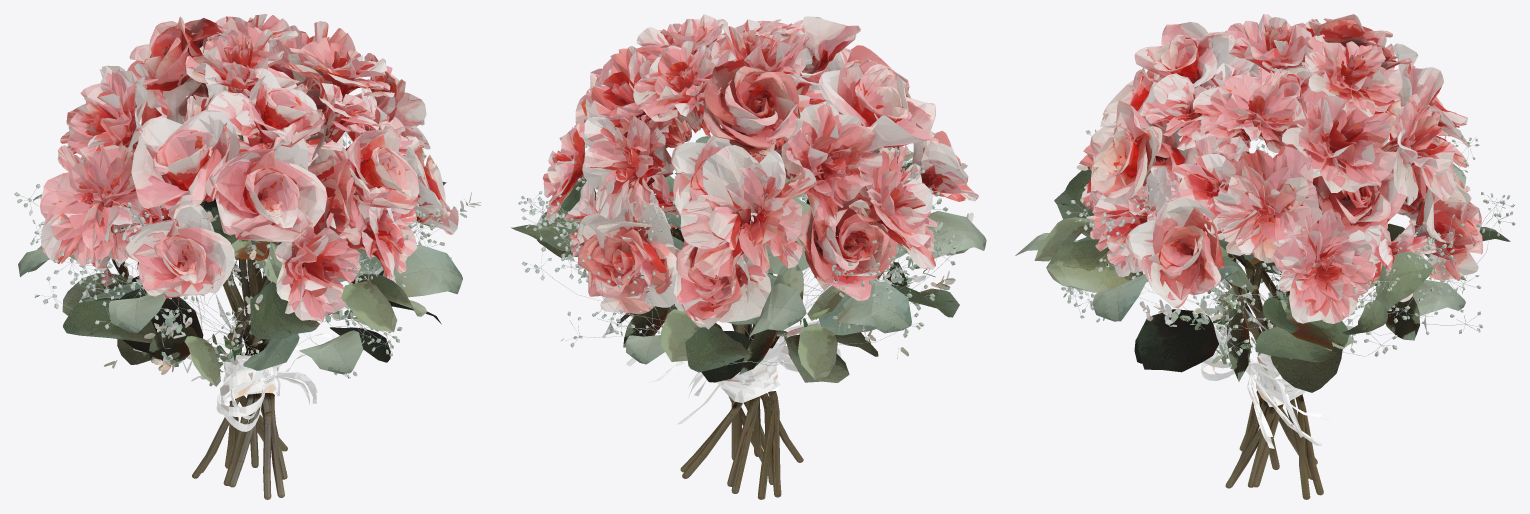
File: qixi-bouquet.glb
The picture shows the model from 3 angles, left to right: view 1: azimuth 30°, elevation 25°; view 2: azimuth 150°, elevation 25°; view 3: azimuth 270°, elevation 25°; orthographic projection.
Visible parts, largest first — view 1: Leaves_003, Leaves_002, Petal_010, Petal_005, Petal_012, Petal_004, Stems, Petal_022, Petal_019, Petal_002, Petal_008, Petal_025 (+26 smaller); view 2: Leaves_002, Petal_001, Petal_016, Petal_002, Petal_019, Petal_012, Petal_014, Petal_009, Stems, Petal_010, Petal_003, Petal_007 (+24 smaller); view 3: Leaves_003, Petal_017, Petal_018, Petal_015, Petal_021, Leaves_001, Petal_020, Stems, Petal_007, Petal_008, Petal_014, Petal_016 (+28 smaller).
Boxes of the visible parts, x1=… form: Leaves_003: x1=137, y1=198, x2=462, y2=373; Leaves_002: x1=18, y1=194, x2=299, y2=386; Petal_010: x1=40, y1=142, x2=139, y2=267; Petal_005: x1=209, y1=131, x2=327, y2=242; Petal_012: x1=131, y1=110, x2=240, y2=209; Petal_004: x1=125, y1=204, x2=234, y2=298; Stems: x1=192, y1=135, x2=287, y2=499; Petal_022: x1=274, y1=210, x2=360, y2=321; Petal_019: x1=127, y1=16, x2=222, y2=124; Petal_002: x1=67, y1=70, x2=147, y2=161; Petal_008: x1=347, y1=121, x2=419, y2=214; Petal_025: x1=248, y1=68, x2=324, y2=148; Leaves_002: x1=623, y1=197, x2=986, y2=382; Petal_001: x1=680, y1=145, x2=816, y2=278; Petal_016: x1=577, y1=201, x2=677, y2=314; Petal_002: x1=781, y1=102, x2=882, y2=225; Petal_019: x1=703, y1=60, x2=801, y2=155; Petal_012: x1=818, y1=58, x2=939, y2=151; Petal_014: x1=582, y1=115, x2=666, y2=220; Petal_009: x1=798, y1=195, x2=898, y2=302; Stems: x1=670, y1=199, x2=809, y2=499; Petal_010: x1=849, y1=150, x2=937, y2=269; Petal_003: x1=665, y1=212, x2=771, y2=329; Petal_007: x1=633, y1=41, x2=736, y2=121; Leaves_003: x1=1015, y1=166, x2=1342, y2=392; Petal_017: x1=1210, y1=145, x2=1322, y2=263; Petal_018: x1=1273, y1=208, x2=1376, y2=323; Petal_015: x1=1282, y1=87, x2=1397, y2=192; Petal_021: x1=1125, y1=197, x2=1223, y2=308; Leaves_001: x1=1219, y1=237, x2=1433, y2=362; Petal_020: x1=1193, y1=71, x2=1302, y2=153; Stems: x1=1225, y1=182, x2=1323, y2=499; Petal_007: x1=1304, y1=34, x2=1402, y2=117; Petal_008: x1=1090, y1=100, x2=1162, y2=204; Petal_014: x1=1381, y1=94, x2=1456, y2=205; Petal_016: x1=1404, y1=180, x2=1482, y2=280.
Bounding box in the file's own units: 0.3586 × 0.3863 × 0.3838.
Materials: 20 (20 with a texture image).
